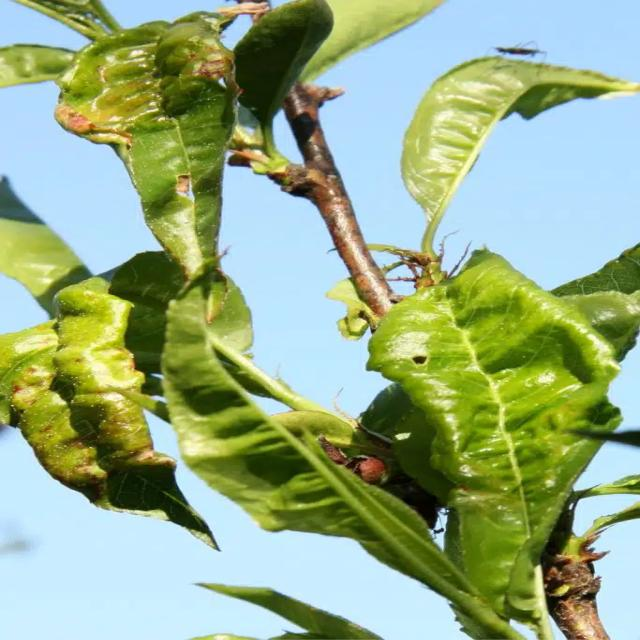peach_leaf_curl: (49, 6, 308, 212)
